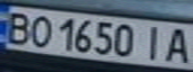0: (112, 21, 139, 57)
1: (51, 16, 75, 52)
5: (90, 19, 115, 56)
6: (72, 17, 96, 54)
A: (160, 25, 193, 64)
B: (0, 9, 36, 45)
I: (139, 22, 169, 61)
O: (24, 12, 57, 48)
